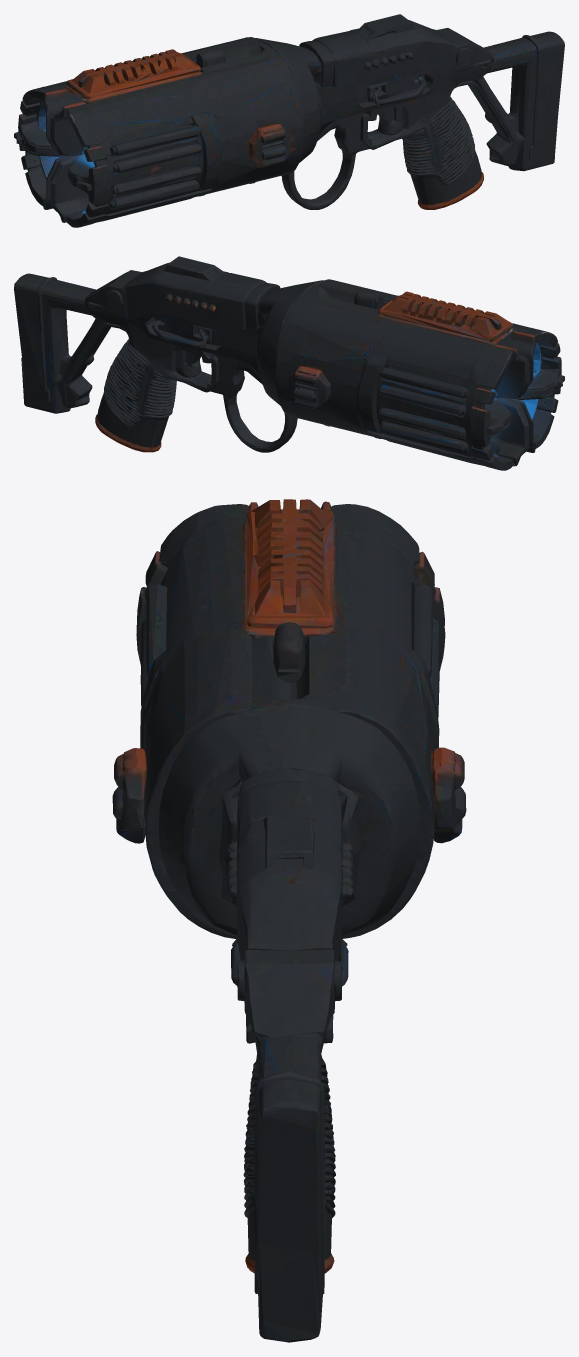
File: arc_scattergun.glb
3 renders of one model, top to bottom at view 1: azimuth 30°, elevation 25°; view 2: azimuth 150°, elevation 25°; view 3: azimuth 270°, elevation 25°, orthographic. The views are drawn at different scales.
Bounding box in the file's own units: 1.9 × 0.7638 × 0.5688.
1 material, 1 textured.
